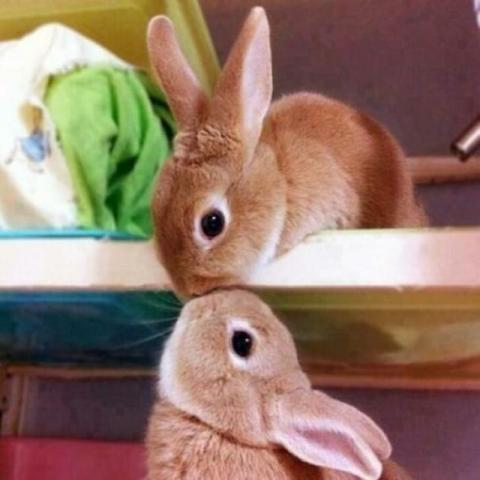small_animal: (145, 8, 447, 306), (145, 284, 419, 478)
